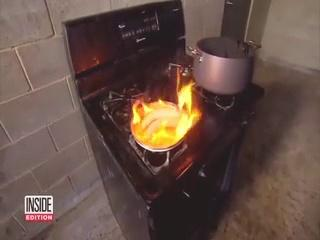Fire: (130, 82, 197, 152)
